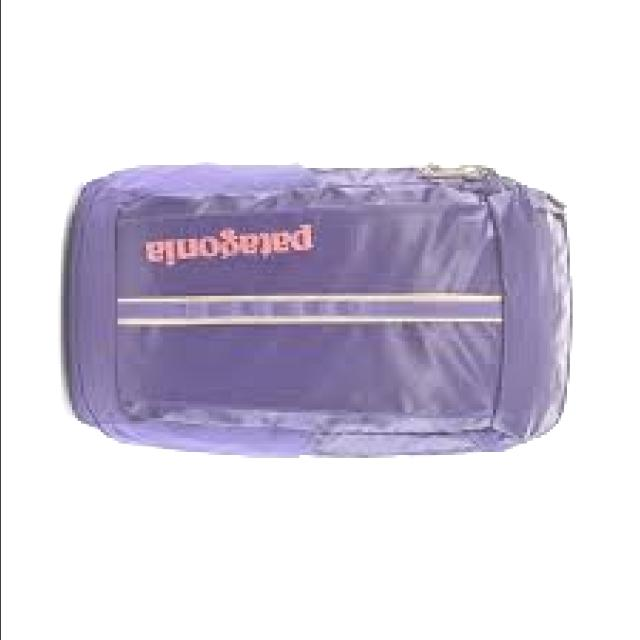backpack: (67, 161, 576, 459)
